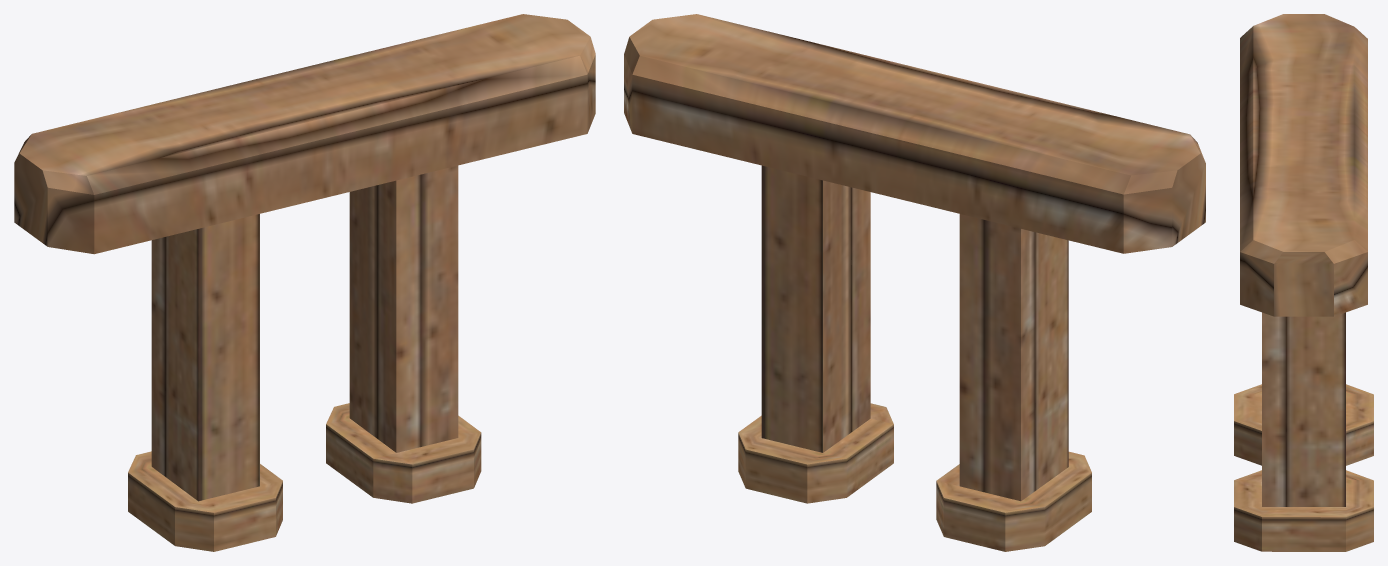
The model's file is Cabin_Railing.obj.
3 views of the same model, side by side, from view 1: azimuth 30°, elevation 25°; view 2: azimuth 150°, elevation 25°; view 3: azimuth 270°, elevation 25° (orthographic). The views are drawn at different scales.
Parts seen in each view (by area): view 1: LowPoly_Cube; view 2: LowPoly_Cube; view 3: LowPoly_Cube.
Part boxes in pixels (x1,y1,x2,y2): LowPoly_Cube: [14, 14, 595, 551]; LowPoly_Cube: [624, 14, 1205, 551]; LowPoly_Cube: [1234, 14, 1373, 551].
Size of the model in its own units: 0.9882 by 0.683 by 0.2456.
